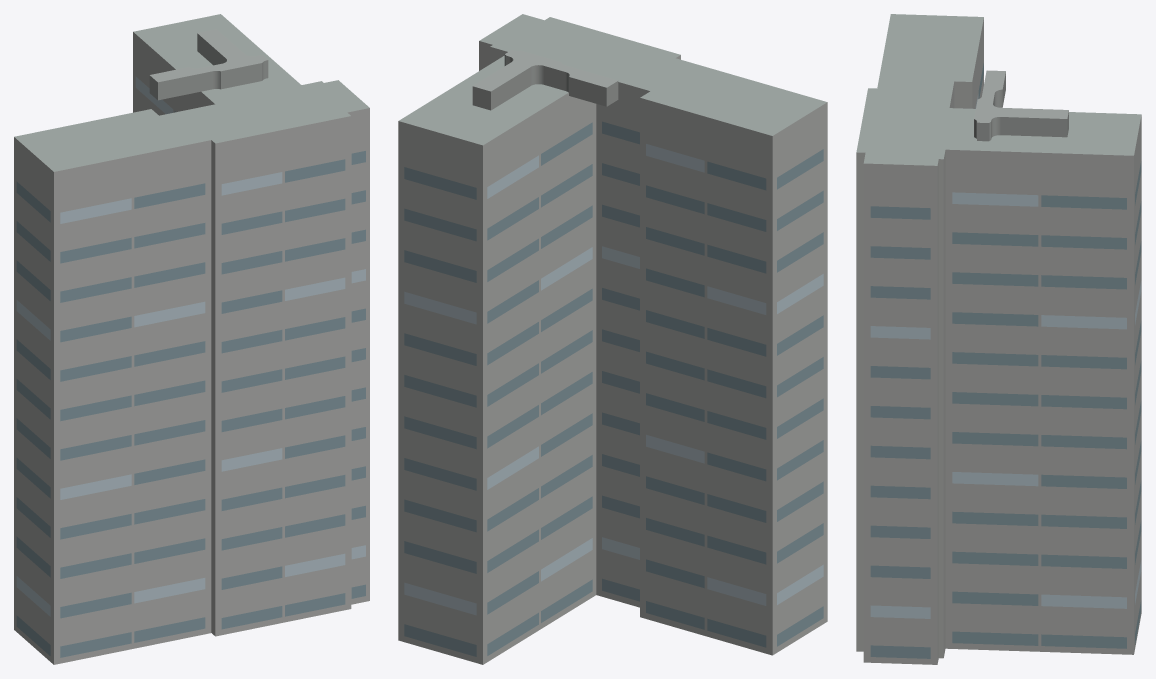
The model's file is fallback-sk-bukhansan-city-147.glb.
The picture shows the model from 3 angles, left to right: view 1: azimuth 30°, elevation 25°; view 2: azimuth 150°, elevation 25°; view 3: azimuth 270°, elevation 25°; orthographic projection. The views are drawn at different scales.
Parts seen in each view (by area): view 1: fallback-sk-bukhansan-city-147; view 2: fallback-sk-bukhansan-city-147; view 3: fallback-sk-bukhansan-city-147.
Part boxes in pixels (x1,y1,x2,y2): fallback-sk-bukhansan-city-147: [14, 14, 369, 664]; fallback-sk-bukhansan-city-147: [398, 14, 827, 664]; fallback-sk-bukhansan-city-147: [856, 14, 1141, 664].
Size of the model in its own units: 42.83 by 68 by 33.98.
